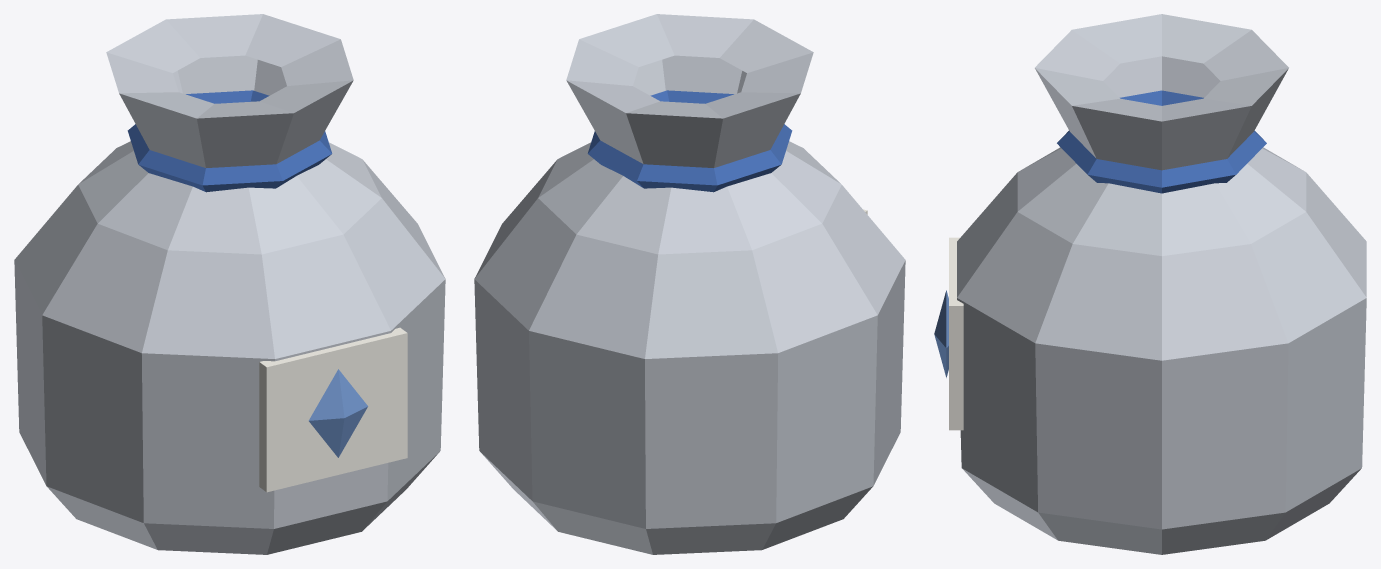
File: Food_Salt.obj
3 renders of one model, left to right at view 1: azimuth 30°, elevation 25°; view 2: azimuth 150°, elevation 25°; view 3: azimuth 270°, elevation 25°, orthographic.
Bounding box in the file's own units: 1.76 × 1.86 × 1.77.
